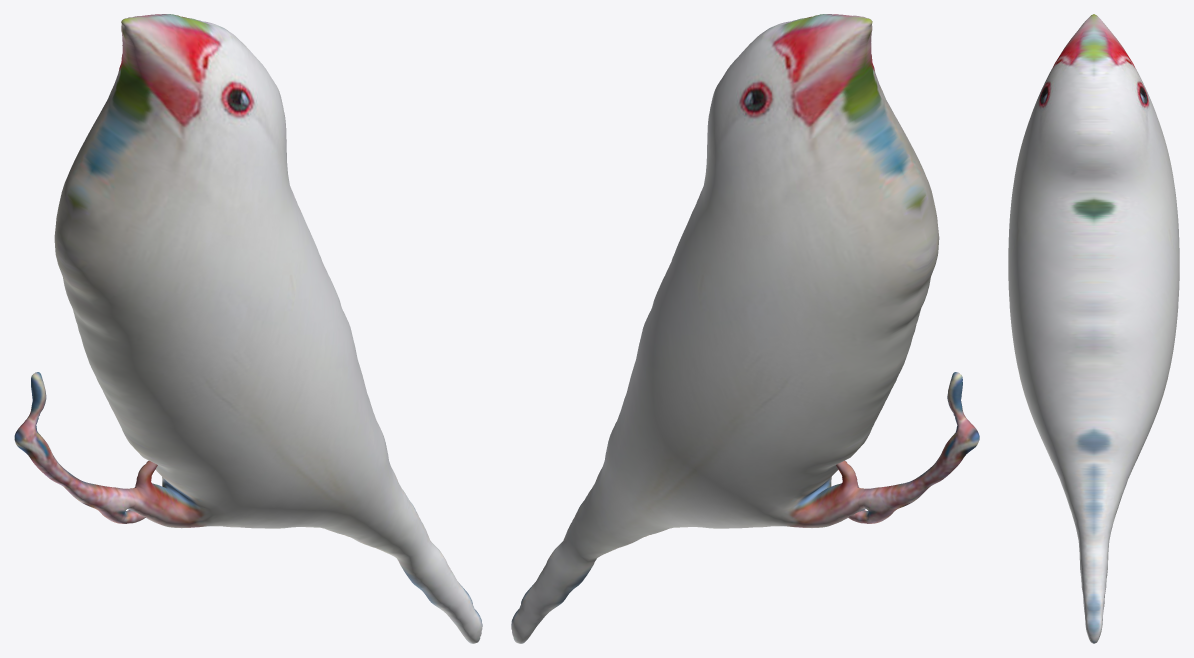
The picture shows the model from 3 angles, left to right: view 1: azimuth 30°, elevation 25°; view 2: azimuth 150°, elevation 25°; view 3: azimuth 270°, elevation 25°; orthographic projection. The views are drawn at different scales.
Size of the model in its own units: 6.22 by 9.04 by 2.77.
1 material, 1 textured.
